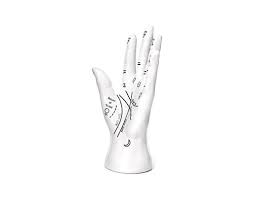palm: (111, 90, 149, 131)
